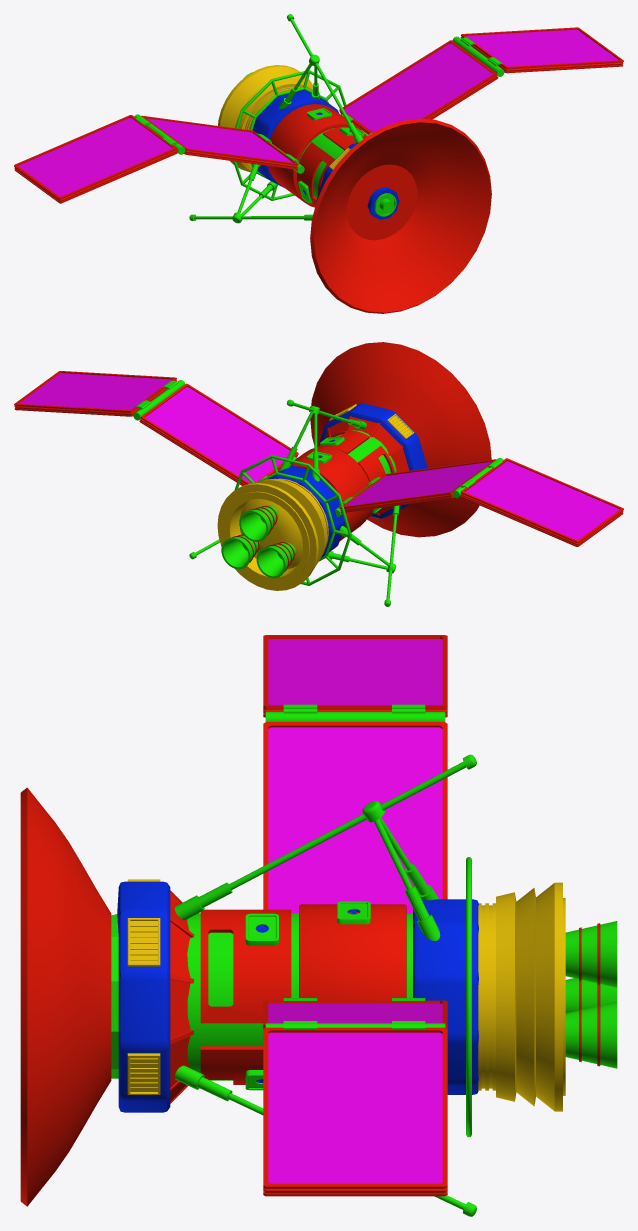
The model's file is Satellite.glb.
3 renders of one model, top to bottom at view 1: azimuth 30°, elevation 25°; view 2: azimuth 150°, elevation 25°; view 3: azimuth 270°, elevation 25°, orthographic. The views are drawn at different scales.
Parts seen in each view (by area): view 1: Satellite; view 2: Satellite; view 3: Satellite.
Part boxes in pixels (box(x1,y1,x2,y2)): Satellite: box(14, 14, 623, 313); Satellite: box(14, 342, 623, 606); Satellite: box(20, 635, 617, 1216).
Size of the model in its own units: 156 by 56.85 by 71.13.
